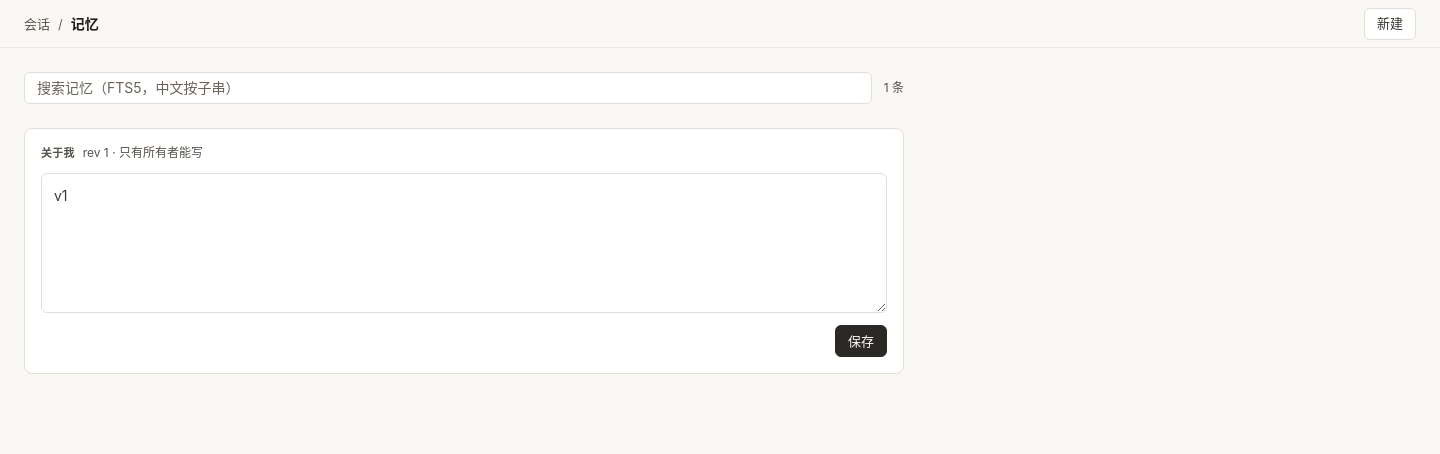
Test: an archived server copy leaves a dirty draft alone › keeps the typed draft instead of overwriting it with the archived body
Replace the text in the text box with test id "memory-about-body" with "mine" at (464, 243), box [41,173,887,313]
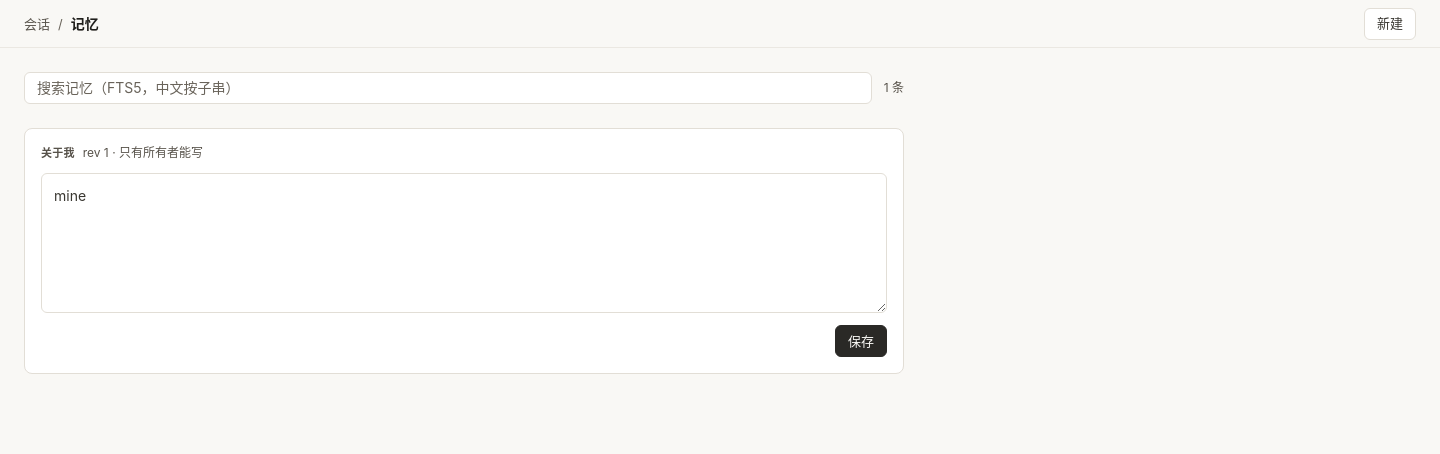
Type "a" into the search field with test id "memory-search" at (448, 88), box [24,72,872,104]
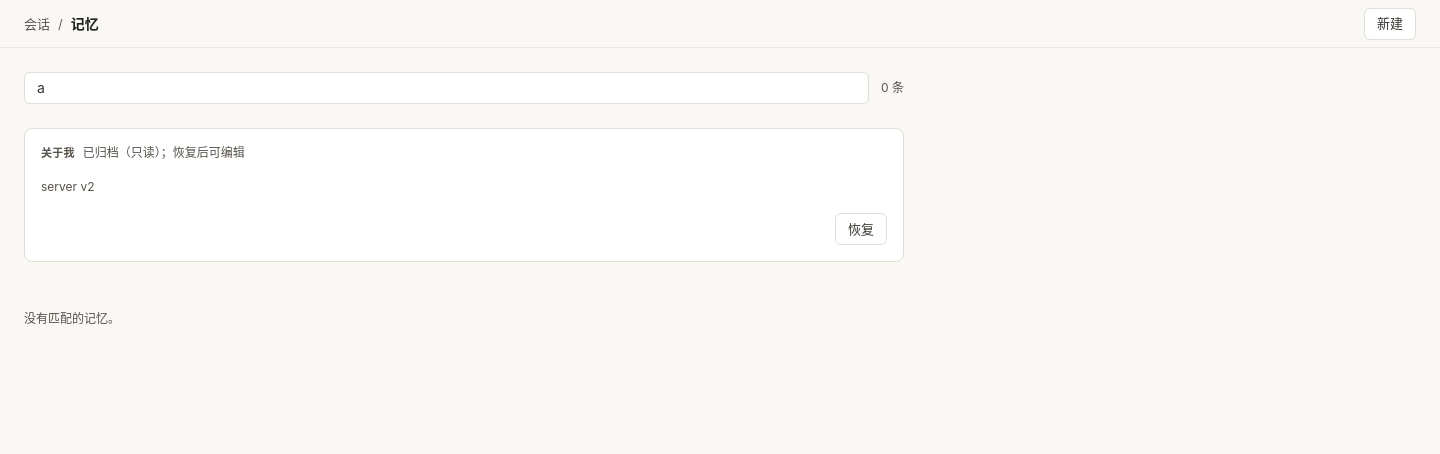
Check: the text "server v2" is shown, box [41,179,94,194]
Replace the text in the search field with test id "memory-search" with "b" at (446, 88), box [24,72,869,104]
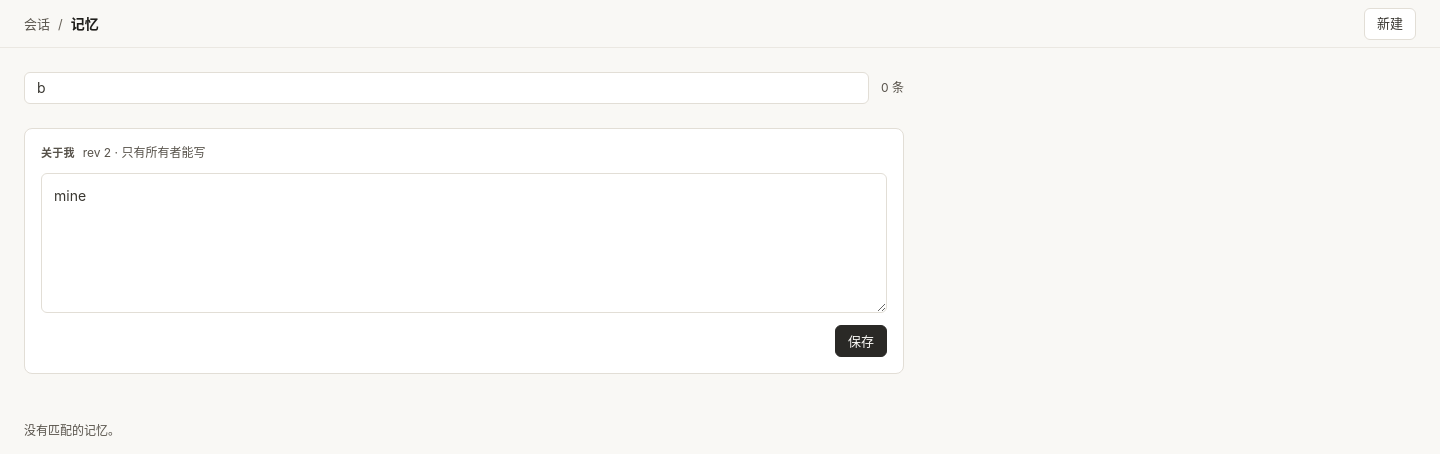
Check: the text box with test id "memory-about-body" holds "mine", box [41,173,887,313]
